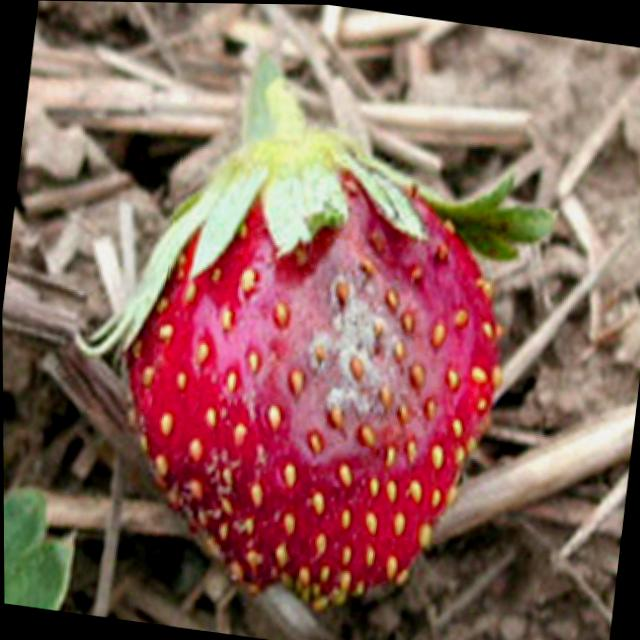Gray Mold: (233, 169, 467, 471)
